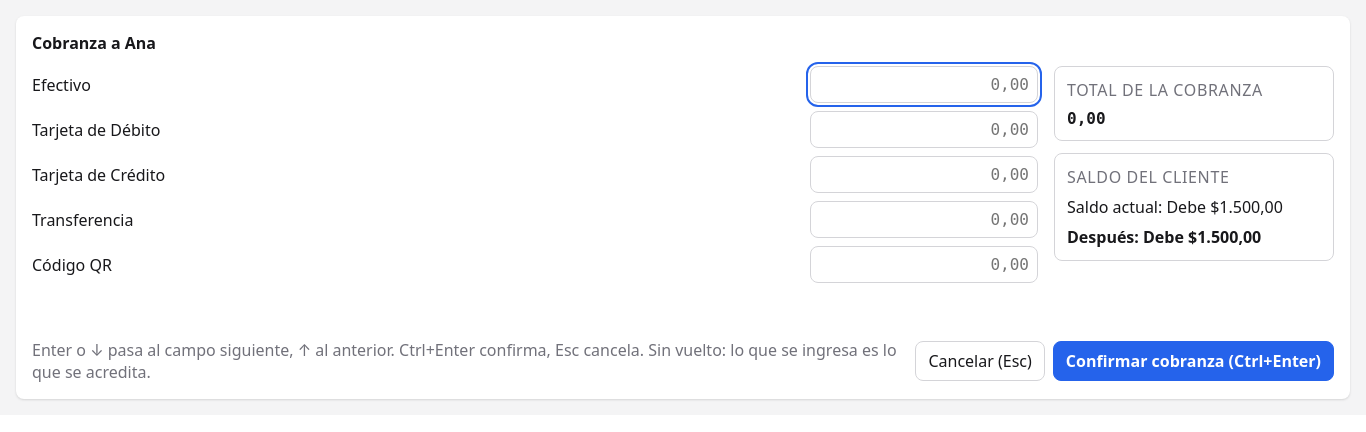
CollectionScreen (#101) › muestra el total y el saldo en vivo
Expected: the text "Saldo actual: Debe $1.500,00" is shown, 1067,196 -> 1283,218
Type "1000" into the field labelled "Efectivo". click: (924, 84)
box: 810,66 -> 1038,103
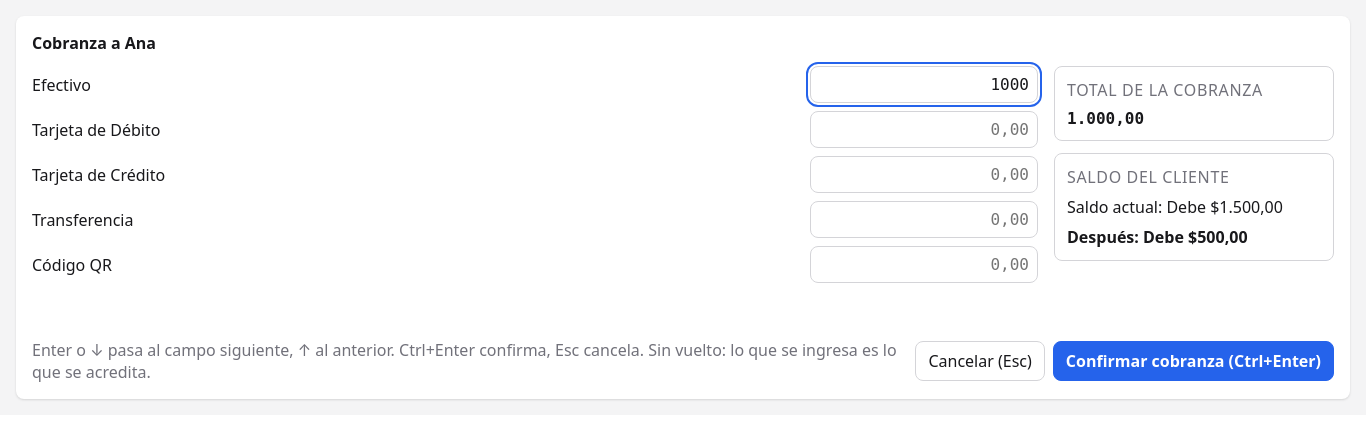
Now the text with test id "collection-total" reads "1.000,00", box 1067,109 -> 1144,128
Now the text "Después: Debe $500,00" is shown, box 1067,226 -> 1248,248
